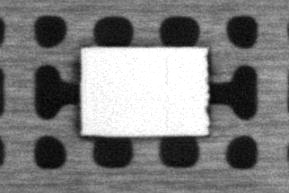DIE_CRACK: (161, 54, 171, 131)
